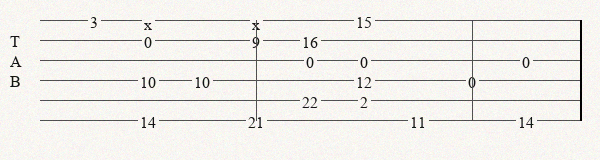0: (144, 33, 156, 48), (306, 53, 318, 68), (360, 53, 372, 68), (468, 73, 480, 88), (522, 53, 534, 68)
10: (140, 73, 160, 88), (194, 73, 214, 88)
11: (410, 113, 430, 128)
12: (356, 73, 376, 88)
14: (140, 113, 160, 128), (518, 113, 538, 128)
15: (356, 13, 376, 28)
16: (302, 33, 322, 48)
2: (360, 93, 372, 108)
21: (248, 113, 268, 128)
22: (302, 93, 322, 108)
3: (90, 13, 102, 28)
9: (252, 33, 264, 48)
x: (144, 15, 156, 26), (252, 15, 264, 26)
